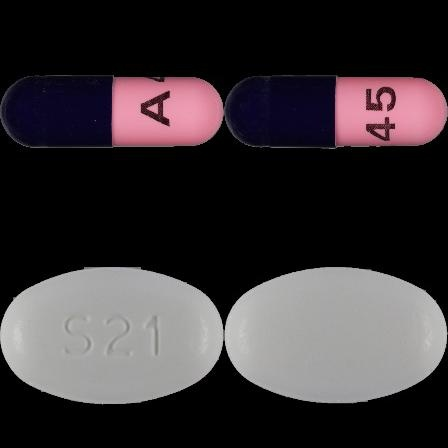33261-137: (0, 0, 224, 224)
